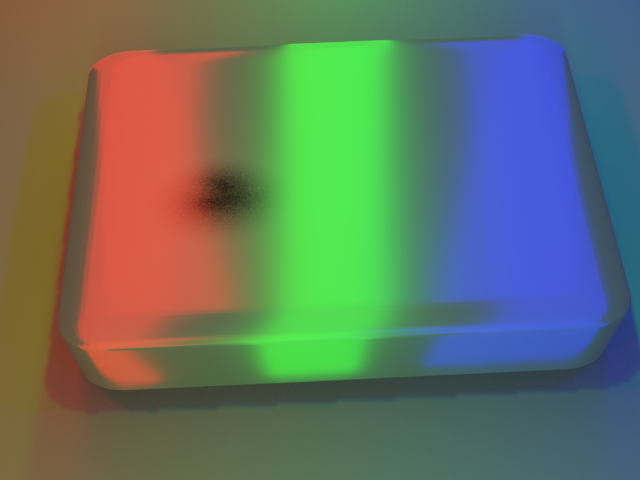stain: (86, 135, 303, 258)
